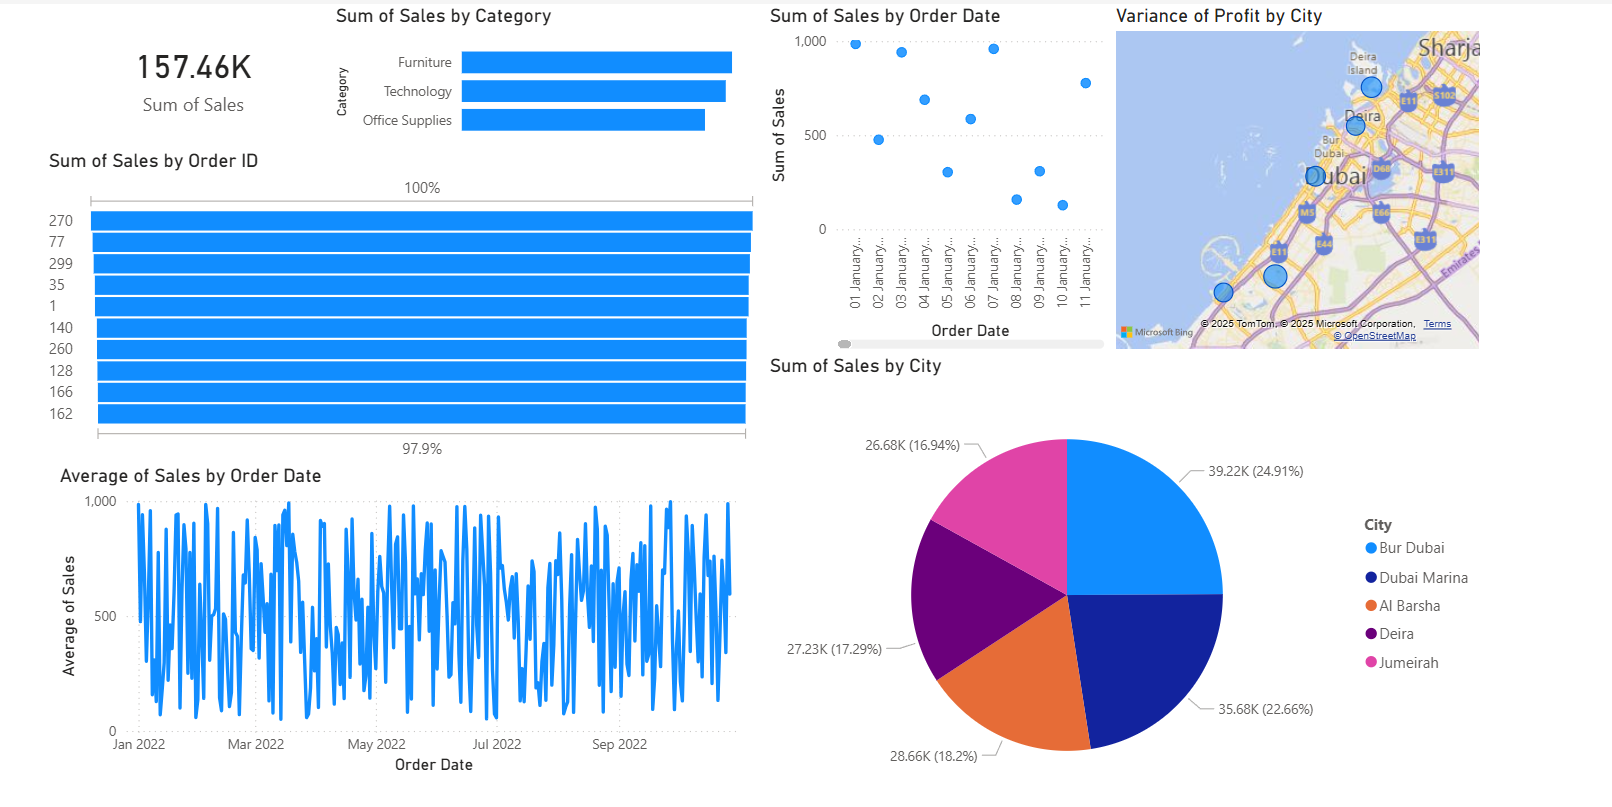

What the dashboard file says about the page in this screenshot:
{"tool":"powerbi","page":{"name":"Page 1","canvas":[1280,720],"ordinal":0},"visuals":[{"type":"card","fields":{"Values":["Sum(dubai_retail_dataset 1.Sales)"]},"box":[11.2,0,243.8,128.8],"z":0},{"type":"lineChart","fields":{"Y":["Avg(dubai_retail_dataset 1.Sales)"],"Category":["dubai_retail_dataset 1.Order Date"]},"box":[10,408.8,630,280],"z":1000},{"type":"clusteredBarChart","fields":{"Category":["dubai_retail_dataset 1.Category"],"Y":["Sum(dubai_retail_dataset 1.Sales)"]},"box":[255,0,385,128.8],"z":2000},{"type":"funnel","fields":{"Y":["Sum(dubai_retail_dataset 1.Sales)"],"Category":["dubai_retail_dataset 1.Order ID"]},"box":[0,128.8,640,280],"z":3000},{"type":"pieChart","fields":{"Category":["dubai_retail_dataset 1.City"],"Y":["Sum(dubai_retail_dataset 1.Sales)"]},"box":[640,311,640,409],"z":4000},{"type":"scatterChart","fields":{"X":["dubai_retail_dataset 1.Order Date"],"Y":["Sum(dubai_retail_dataset 1.Sales)"]},"box":[640,0,307,311],"z":4001},{"type":"map","fields":{"Category":["dubai_retail_dataset 1.City"],"Size":["Sum(dubai_retail_dataset 1.Profit)"]},"box":[947,0,333,311],"z":4002}]}

Visuals, with their boxes on the page's 1280x720 design canvas (x1, y1, x2, y2). These are canvas units, not pixel positions in the 1612x807 screenshot, which may show the page scaled, cropped or inside an application window:
card - Sum(dubai_retail_dataset 1.Sales): [11, 0, 255, 129]
lineChart - Avg(dubai_retail_dataset 1.Sales) x dubai_retail_dataset 1.Order Date: [10, 409, 640, 689]
clusteredBarChart - dubai_retail_dataset 1.Category x Sum(dubai_retail_dataset 1.Sales): [255, 0, 640, 129]
funnel - Sum(dubai_retail_dataset 1.Sales) x dubai_retail_dataset 1.Order ID: [0, 129, 640, 409]
pieChart - dubai_retail_dataset 1.City x Sum(dubai_retail_dataset 1.Sales): [640, 311, 1280, 720]
scatterChart - dubai_retail_dataset 1.Order Date x Sum(dubai_retail_dataset 1.Sales): [640, 0, 947, 311]
map - dubai_retail_dataset 1.City x Sum(dubai_retail_dataset 1.Profit): [947, 0, 1280, 311]
